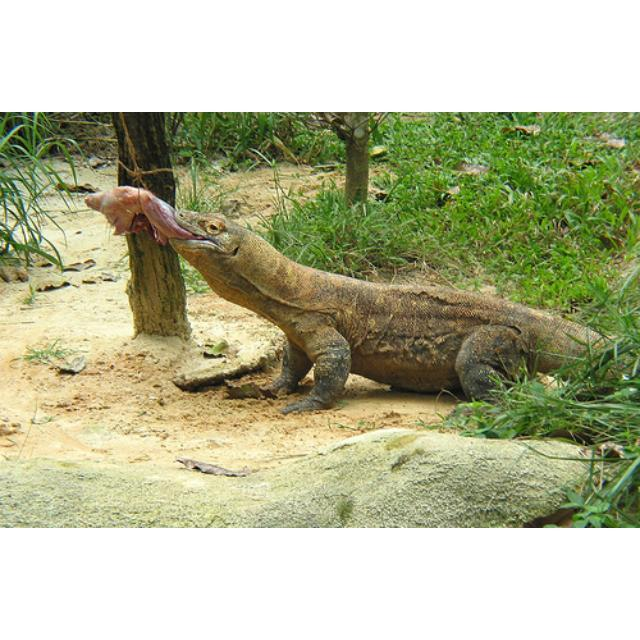KomodoDragon: (158, 199, 636, 426)
